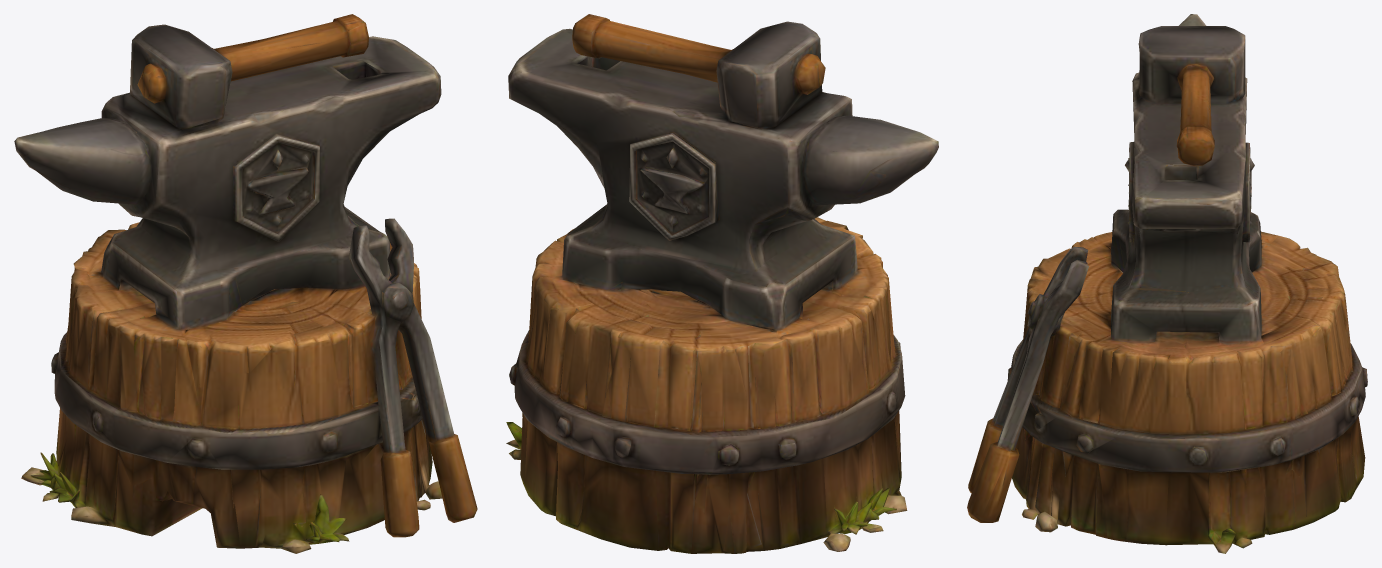
File: stump-forge.glb
3 views of the same model, side by side, from view 1: azimuth 30°, elevation 25°; view 2: azimuth 150°, elevation 25°; view 3: azimuth 270°, elevation 25° (orthographic). The views are drawn at different scales.
Parts seen in each view (by area): view 1: Mesh1.0; view 2: Mesh1.0; view 3: Mesh1.0.
Part boxes in pixels (x1,y1,x2,y2): Mesh1.0: [14, 14, 477, 553]; Mesh1.0: [506, 14, 938, 553]; Mesh1.0: [967, 14, 1367, 553].
Bounding box in the file's own units: 1.84 × 1.9 × 1.69.
1 material, 1 textured.
